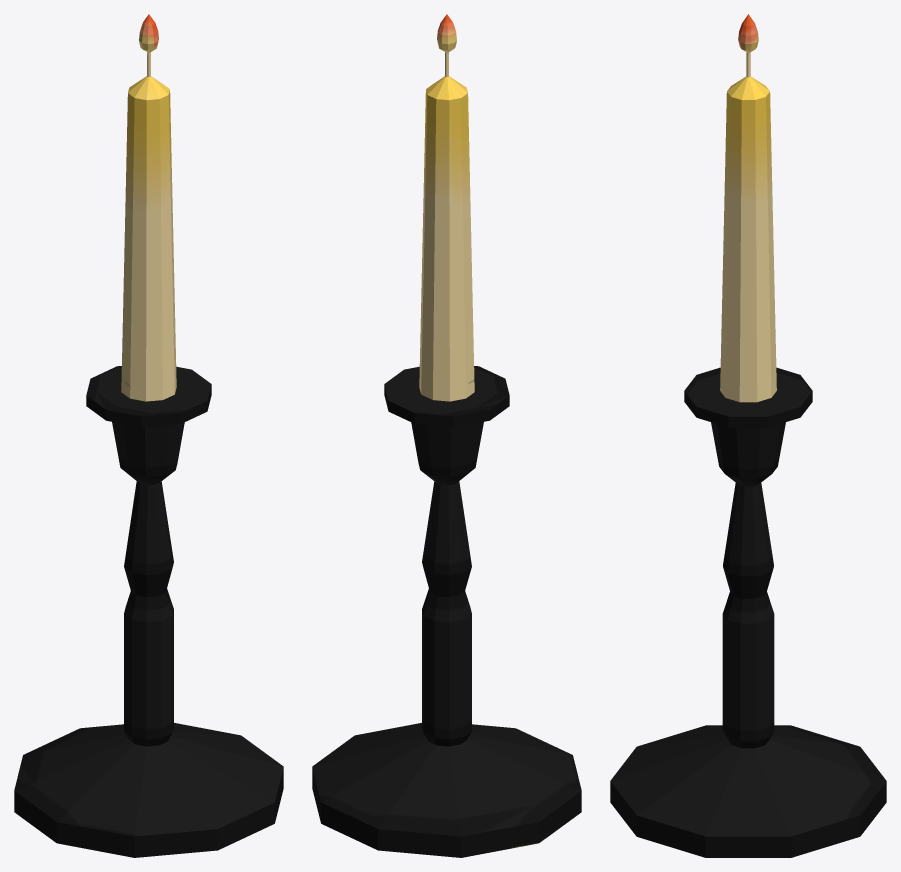
Rendered from Candle7_Model.fbx.
The picture shows the model from 3 angles, left to right: view 1: azimuth 30°, elevation 25°; view 2: azimuth 150°, elevation 25°; view 3: azimuth 270°, elevation 25°; orthographic projection.
Visible parts, largest first — view 1: Candle7; view 2: Candle7; view 3: Candle7.
Boxes of the visible parts, x1,y1,x2,y2 form: Candle7: [14, 14, 283, 857]; Candle7: [312, 14, 581, 857]; Candle7: [610, 14, 886, 857].
Bounding box in the file's own units: 8.94 × 29.59 × 9.4.
